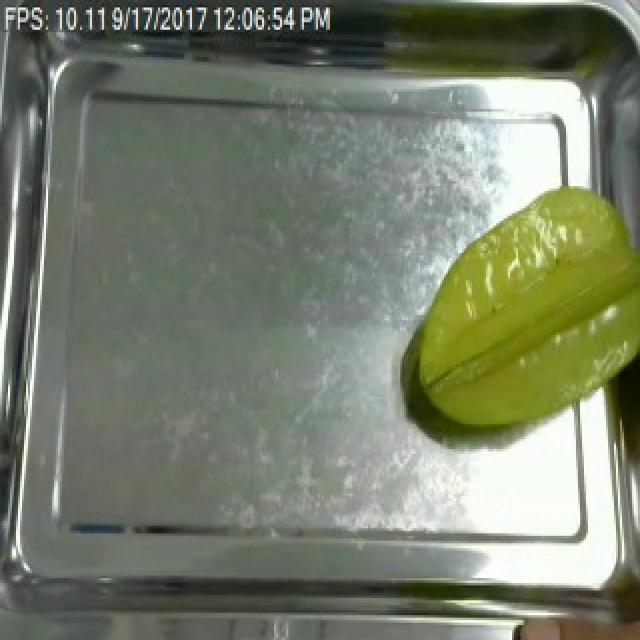fruit: (402, 176, 640, 442)
